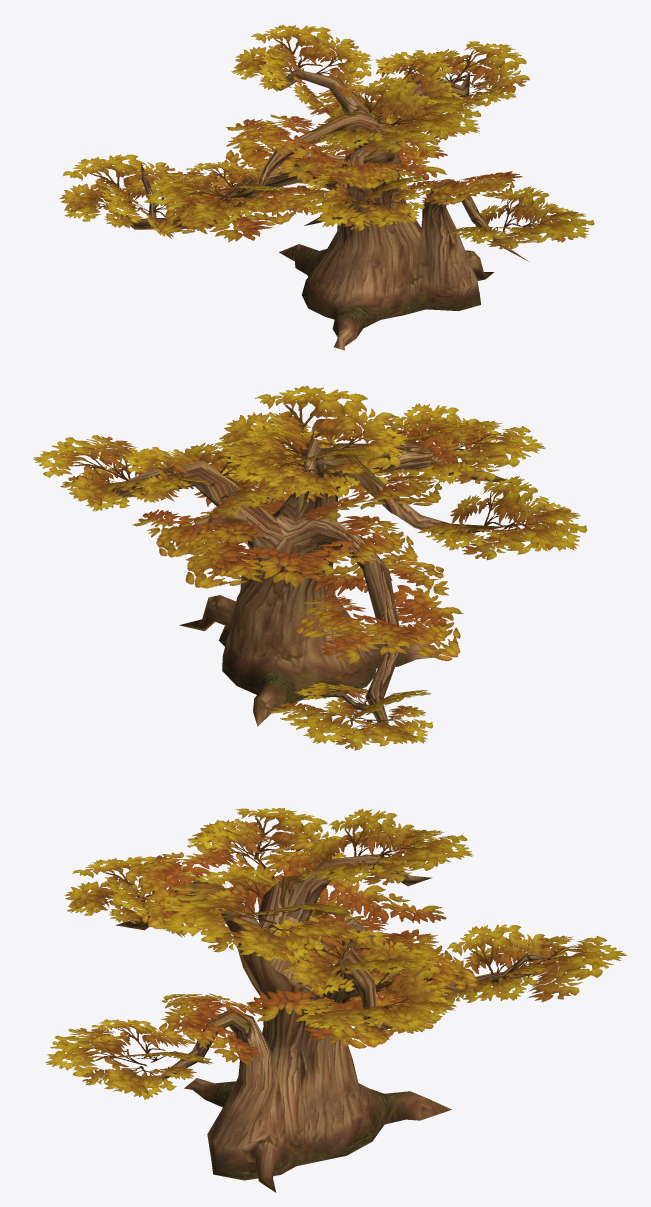
The model's file is environment_Tree_yellow_001_a.FBX.
The picture shows the model from 3 angles, top to bottom: view 1: azimuth 30°, elevation 25°; view 2: azimuth 150°, elevation 25°; view 3: azimuth 270°, elevation 25°; orthographic projection. The views are drawn at different scales.
Parts seen in each view (by area): view 1: environment_Tree_yellow_001_a, environment_Tree_yellow_001_b; view 2: environment_Tree_yellow_001_a, environment_Tree_yellow_001_b; view 3: environment_Tree_yellow_001_a, environment_Tree_yellow_001_b.
Part boxes in pixels (x1,y1,x2,y2): environment_Tree_yellow_001_a: [59, 25, 594, 249]; environment_Tree_yellow_001_b: [104, 70, 536, 350]; environment_Tree_yellow_001_a: [33, 385, 587, 750]; environment_Tree_yellow_001_b: [88, 436, 511, 738]; environment_Tree_yellow_001_a: [45, 808, 627, 1099]; environment_Tree_yellow_001_b: [112, 853, 552, 1192].
Bounding box in the file's own units: 1848 × 931 × 1819.
